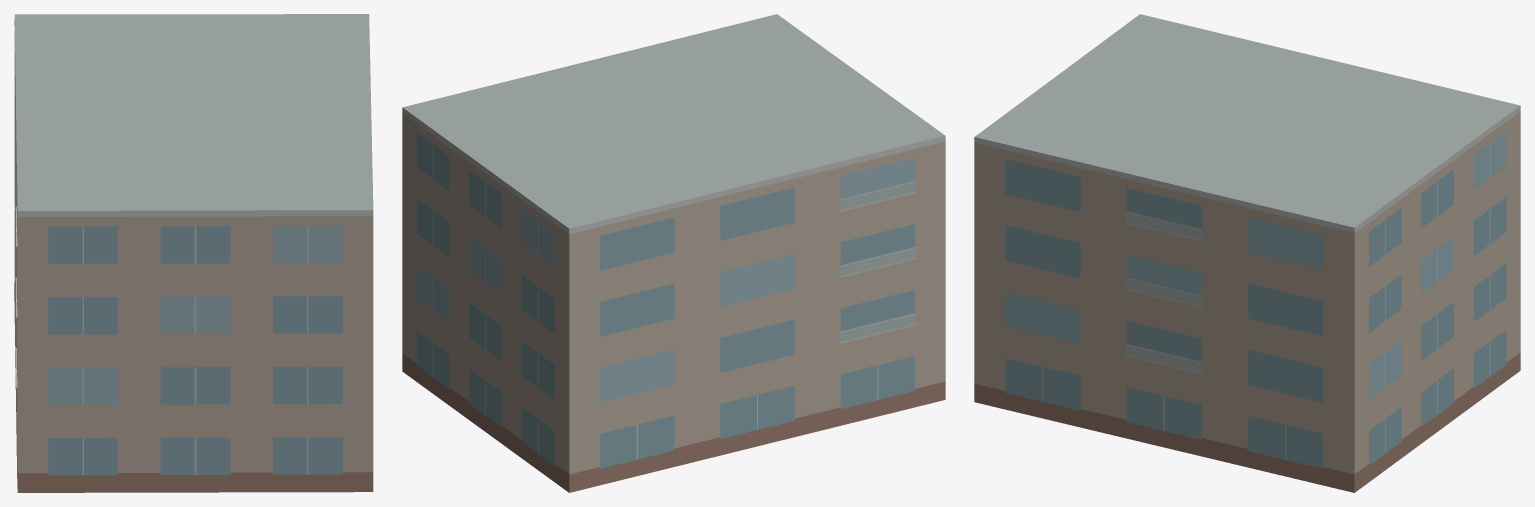
Rendered from survey-upis-32720267.glb.
3 views of the same model, side by side, from view 1: azimuth 30°, elevation 25°; view 2: azimuth 150°, elevation 25°; view 3: azimuth 270°, elevation 25° (orthographic). The views are drawn at different scales.
Parts seen in each view (by area): view 1: survey-upis-32720267.tmp; view 2: survey-upis-32720267.tmp; view 3: survey-upis-32720267.tmp.
Boxes of the visible parts, <box> form: survey-upis-32720267.tmp: <box>14,14,373,492</box>; survey-upis-32720267.tmp: <box>402,14,945,492</box>; survey-upis-32720267.tmp: <box>974,14,1520,492</box>.
Bounding box in the file's own units: 19.63 × 11.35 × 21.2.
